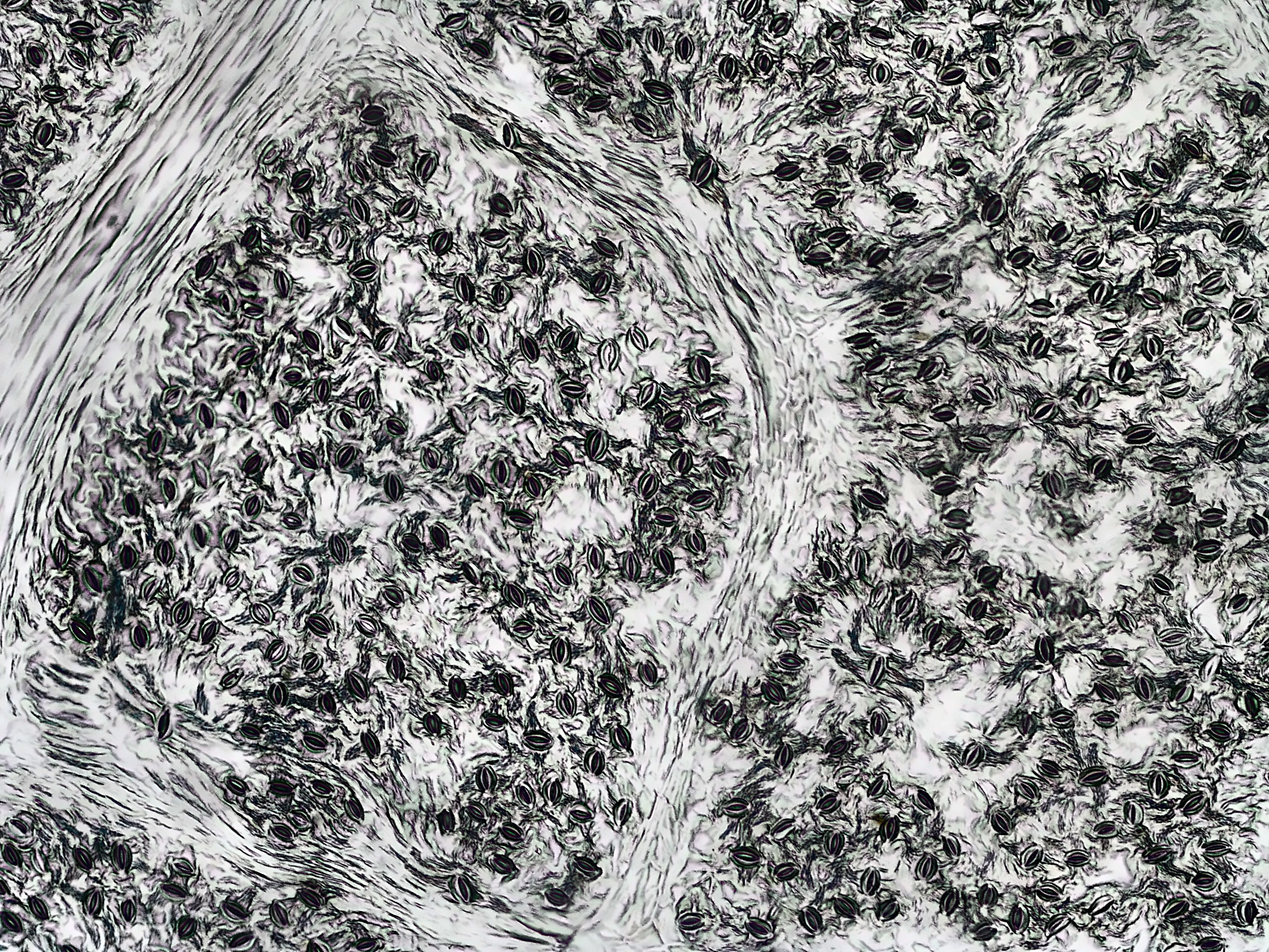stomata: (1211, 434, 1244, 463), (151, 704, 176, 741), (1133, 200, 1161, 233), (980, 193, 1008, 226), (1028, 396, 1061, 423), (347, 258, 382, 283), (584, 427, 609, 462), (690, 155, 717, 187), (107, 840, 132, 874), (1040, 469, 1066, 501), (642, 79, 675, 104), (1071, 245, 1104, 270), (1220, 219, 1248, 248), (31, 118, 56, 150), (301, 613, 333, 638), (917, 355, 946, 382), (329, 314, 358, 341), (595, 25, 625, 51), (1107, 39, 1138, 64), (1228, 298, 1259, 323), (81, 884, 105, 916), (394, 193, 420, 222), (513, 780, 539, 809), (902, 94, 932, 119), (1151, 253, 1182, 277), (1183, 305, 1214, 329), (967, 318, 991, 349), (687, 353, 711, 384), (586, 594, 610, 625), (1220, 169, 1252, 192), (503, 383, 526, 415), (652, 545, 675, 577), (1044, 220, 1072, 246), (1198, 270, 1226, 296), (413, 152, 439, 180), (891, 537, 913, 570), (866, 653, 888, 686), (385, 651, 407, 684), (1088, 278, 1113, 307), (1042, 913, 1071, 938), (862, 26, 894, 48), (1012, 774, 1038, 801), (760, 678, 786, 705), (888, 128, 917, 152), (488, 852, 517, 876), (1158, 377, 1191, 398), (729, 847, 762, 868), (110, 35, 133, 65), (491, 669, 514, 699), (452, 875, 475, 905), (936, 64, 967, 86), (1235, 690, 1260, 717), (343, 670, 368, 697), (1077, 765, 1109, 786), (744, 916, 772, 940), (428, 228, 452, 256), (1076, 381, 1099, 410), (930, 473, 959, 496), (548, 636, 571, 665), (26, 892, 49, 921), (475, 764, 498, 793), (1047, 36, 1077, 58), (969, 8, 1002, 28), (1108, 355, 1130, 385), (598, 340, 620, 370), (626, 324, 648, 354), (611, 798, 633, 828), (585, 64, 616, 85), (1094, 679, 1120, 704), (1019, 844, 1044, 870), (1180, 790, 1206, 815), (555, 325, 580, 351), (635, 380, 660, 406), (548, 446, 574, 471), (69, 617, 94, 643), (768, 12, 792, 39), (670, 448, 694, 475), (267, 900, 291, 927), (96, 1, 124, 24), (862, 242, 890, 265), (1006, 245, 1034, 268), (858, 488, 886, 511), (867, 579, 890, 607), (1114, 606, 1137, 634), (1161, 896, 1189, 919), (1087, 893, 1115, 916), (770, 816, 798, 839), (637, 471, 660, 499), (81, 565, 104, 593), (573, 854, 601, 877), (1094, 328, 1126, 348), (454, 272, 474, 304), (518, 333, 540, 362), (1029, 330, 1050, 360), (1165, 485, 1195, 506), (1205, 720, 1235, 741), (428, 522, 449, 552), (273, 268, 294, 298), (922, 274, 955, 293), (521, 730, 554, 749), (1150, 572, 1176, 596), (826, 734, 852, 758), (488, 193, 514, 217), (300, 328, 324, 354), (373, 326, 399, 350), (248, 601, 274, 625), (630, 113, 657, 136), (824, 21, 851, 44), (1177, 136, 1204, 159), (834, 895, 861, 918), (799, 905, 822, 932), (551, 562, 574, 589), (70, 845, 93, 872), (773, 160, 804, 180), (810, 189, 841, 209), (845, 330, 876, 350), (590, 238, 621, 258), (329, 533, 349, 564), (915, 853, 937, 881), (879, 814, 901, 842), (194, 253, 216, 281), (349, 195, 370, 224), (889, 191, 918, 212), (555, 689, 576, 718), (297, 887, 326, 908), (1158, 627, 1190, 646), (479, 228, 511, 247), (290, 169, 315, 193), (877, 383, 907, 403), (1124, 424, 1154, 444), (1087, 454, 1111, 479), (729, 717, 753, 742), (683, 529, 707, 554), (264, 640, 289, 664), (0, 911, 24, 936), (463, 472, 486, 498), (241, 450, 264, 476), (288, 563, 314, 586), (354, 614, 380, 637), (221, 898, 247, 921), (897, 422, 932, 439), (503, 580, 525, 607), (194, 402, 216, 429), (0, 169, 28, 190), (921, 617, 942, 645), (722, 796, 750, 817), (369, 145, 397, 166), (523, 247, 544, 275), (638, 659, 659, 687), (542, 777, 563, 805), (858, 161, 887, 181), (1150, 524, 1179, 544), (1009, 903, 1029, 932), (543, 886, 572, 906), (848, 546, 865, 580), (220, 665, 244, 689), (598, 674, 622, 698), (64, 46, 89, 69), (978, 55, 1001, 80), (1117, 169, 1142, 192), (969, 382, 994, 405), (379, 585, 404, 608), (582, 748, 605, 773), (894, 591, 916, 617), (710, 698, 732, 724), (491, 281, 513, 307), (610, 724, 632, 750), (499, 119, 518, 149), (718, 53, 737, 83), (1136, 287, 1163, 308), (1199, 507, 1226, 528), (1247, 512, 1268, 539), (943, 508, 970, 529), (860, 867, 881, 894), (360, 730, 381, 757), (876, 299, 909, 316), (1240, 90, 1260, 118), (1035, 634, 1055, 662), (1148, 771, 1168, 799), (773, 741, 793, 769), (523, 473, 543, 501), (155, 537, 175, 565), (300, 732, 328, 752), (161, 880, 189, 900), (1170, 749, 1201, 767), (877, 898, 901, 921), (296, 448, 319, 472), (39, 84, 68, 103), (290, 212, 309, 241), (675, 33, 694, 62), (470, 319, 489, 348), (622, 550, 641, 579), (271, 401, 290, 430), (147, 426, 166, 455), (172, 598, 191, 627), (870, 60, 892, 85), (1079, 72, 1101, 97), (868, 773, 890, 798), (239, 224, 261, 249), (962, 741, 983, 767), (1123, 800, 1144, 826), (1237, 899, 1258, 925), (824, 829, 845, 855), (590, 270, 611, 296), (546, 46, 576, 64), (1143, 333, 1163, 360), (775, 653, 805, 671), (1135, 674, 1155, 701), (1035, 757, 1062, 777), (941, 833, 961, 860), (227, 931, 254, 951), (67, 20, 95, 39), (358, 105, 386, 124), (1195, 539, 1223, 558), (939, 886, 958, 914), (869, 709, 888, 737), (687, 490, 715, 509), (506, 511, 534, 530), (118, 542, 137, 570), (546, 2, 569, 25), (794, 593, 817, 616), (942, 632, 965, 655), (25, 43, 47, 67), (970, 108, 994, 130), (817, 790, 841, 812), (161, 384, 183, 408), (468, 38, 493, 59), (911, 35, 932, 60), (941, 542, 966, 563), (914, 789, 935, 814), (709, 456, 730, 481), (336, 443, 357, 468), (499, 821, 524, 842), (969, 922, 998, 940), (809, 57, 835, 77), (824, 145, 850, 165), (1192, 872, 1218, 892), (235, 274, 261, 294), (447, 675, 467, 701), (1049, 709, 1076, 728), (772, 620, 802, 637), (990, 810, 1012, 833), (315, 693, 338, 715), (1026, 298, 1054, 316), (817, 558, 838, 582), (1170, 682, 1194, 703), (1202, 839, 1230, 857), (267, 681, 288, 705), (465, 800, 489, 821), (946, 156, 971, 176), (865, 354, 890, 374), (349, 159, 369, 184), (420, 445, 440, 470), (224, 775, 249, 795), (436, 808, 456, 833), (442, 11, 468, 30), (581, 95, 610, 112), (1142, 846, 1171, 863), (52, 537, 69, 566), (1033, 571, 1051, 598), (677, 911, 704, 929), (334, 409, 356, 431), (1228, 593, 1251, 614), (235, 345, 258, 366), (461, 561, 482, 584), (1079, 172, 1103, 192), (803, 247, 833, 263), (967, 596, 987, 620), (983, 624, 1007, 644), (978, 883, 998, 907), (385, 472, 401, 502), (178, 914, 198, 938), (310, 778, 334, 798), (929, 403, 957, 420), (1099, 649, 1127, 666), (1063, 849, 1091, 866), (356, 387, 375, 412), (131, 624, 150, 649), (647, 26, 665, 52), (492, 458, 510, 484), (217, 288, 235, 314), (119, 897, 137, 923), (346, 796, 364, 822), (286, 810, 312, 828), (962, 436, 991, 452), (424, 360, 444, 383), (422, 712, 442, 735), (816, 99, 843, 116), (1036, 883, 1063, 900), (191, 520, 208, 547), (977, 566, 1001, 585), (775, 861, 799, 880), (653, 506, 677, 525), (243, 492, 262, 516), (569, 806, 593, 825), (588, 542, 603, 572), (271, 824, 296, 842), (1149, 455, 1177, 471), (558, 381, 586, 397), (123, 491, 140, 517), (1149, 159, 1169, 181), (222, 567, 242, 589), (754, 51, 773, 74), (449, 330, 468, 353), (234, 391, 253, 414), (550, 79, 577, 95), (315, 376, 331, 403), (824, 228, 849, 245), (329, 223, 346, 248), (223, 527, 240, 552), (170, 859, 195, 876), (302, 651, 322, 672), (241, 302, 267, 318), (267, 779, 293, 795), (1094, 820, 1118, 837), (511, 619, 535, 636), (480, 714, 504, 731), (663, 411, 684, 430), (401, 533, 422, 552), (1, 843, 19, 865), (1196, 937, 1224, 951), (200, 620, 217, 643), (1093, 711, 1117, 726), (161, 476, 176, 500), (385, 417, 406, 434), (281, 512, 302, 529), (282, 367, 303, 383), (240, 723, 259, 737)
